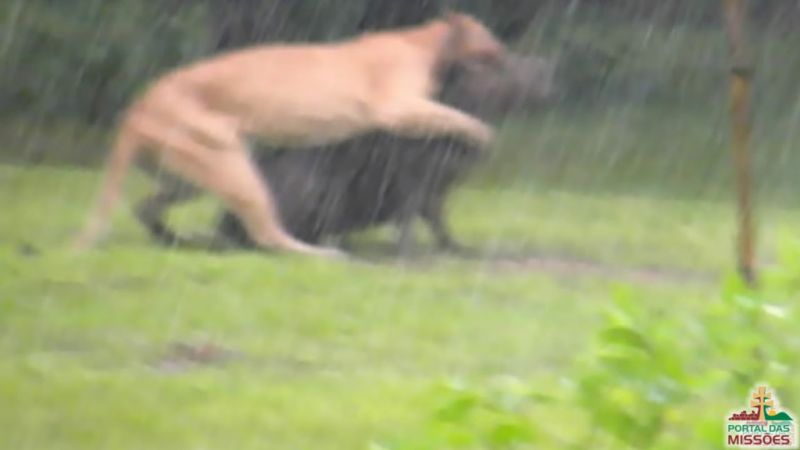OncaParda: (62, 12, 493, 263)
